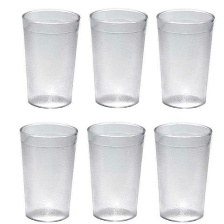glass: (11, 118, 83, 224), (20, 0, 86, 112), (80, 116, 148, 224), (149, 112, 214, 224), (88, 6, 152, 106), (155, 5, 215, 110)
